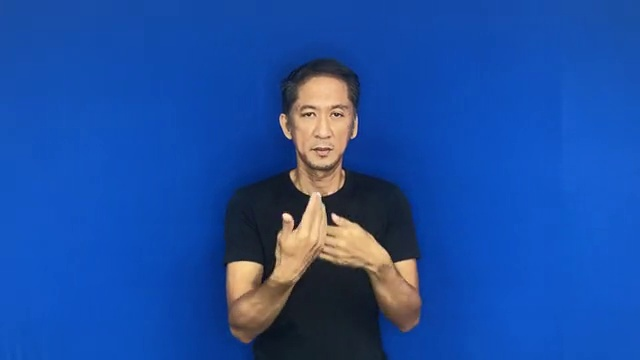bread: (267, 184, 394, 293)
